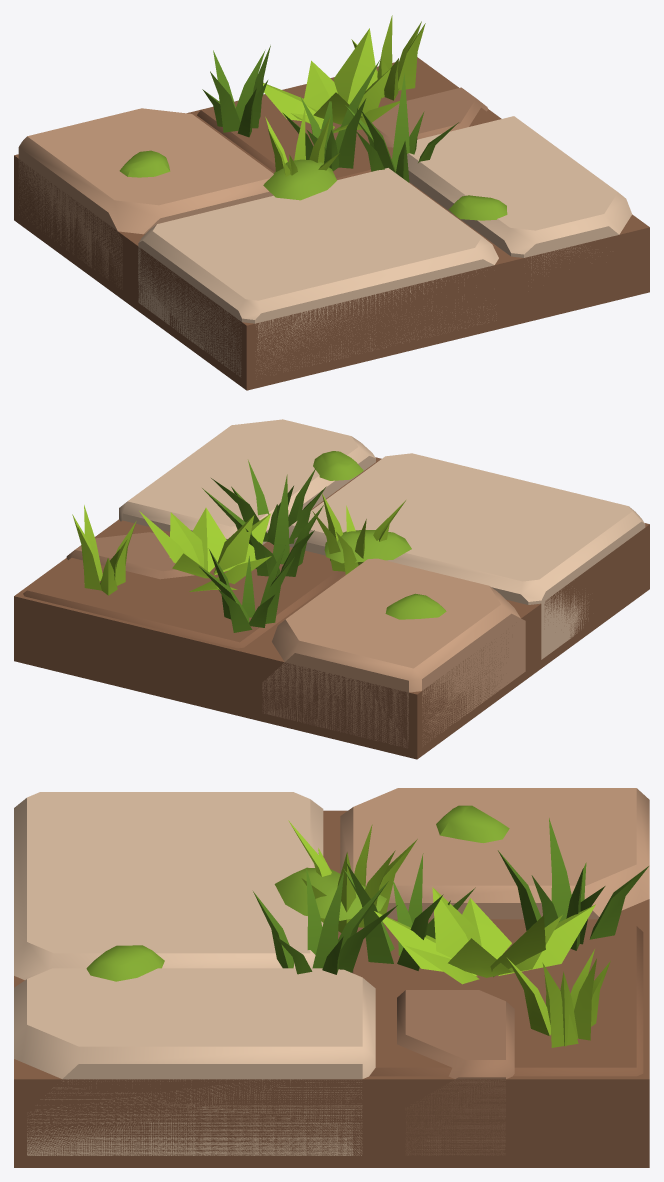
File: floor_overgrown__upper.glb
The picture shows the model from 3 angles, top to bottom: view 1: azimuth 30°, elevation 25°; view 2: azimuth 150°, elevation 25°; view 3: azimuth 270°, elevation 25°; orthographic projection. The views are drawn at different scales.
Parts seen in each view (by area): view 1: floor_overgrown; view 2: floor_overgrown; view 3: floor_overgrown.
Part boxes in pixels (x1=…): floor_overgrown: x1=14, y1=15, x2=649, y2=390; floor_overgrown: x1=14, y1=419, x2=649, y2=759; floor_overgrown: x1=14, y1=788, x2=649, y2=1167.
Bounding box in the file's own units: 0.974 × 0.3369 × 0.9744.
